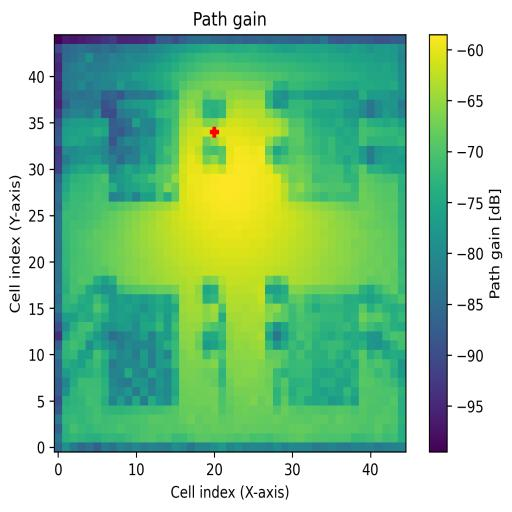Concrete: (273, 91, 360, 203)
Glass: (102, 91, 181, 201)
Metal: (288, 294, 360, 406)
Wood: (108, 286, 180, 406)
